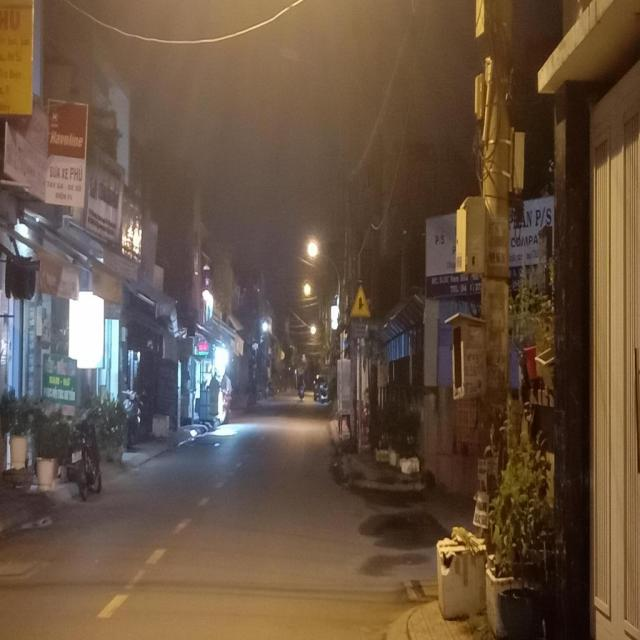giao_nhau_voi_duong_khong_uu_tien: (349, 283, 371, 317)
